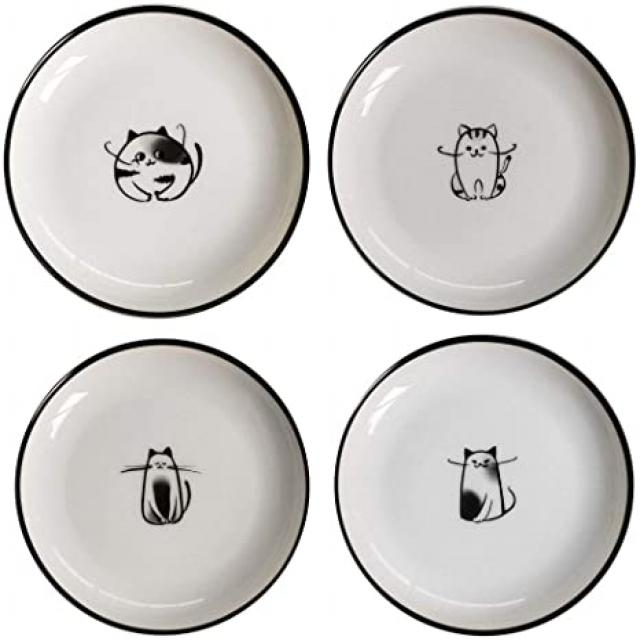non-organic waste: (306, 323, 640, 640), (3, 5, 316, 327), (329, 19, 640, 319)
